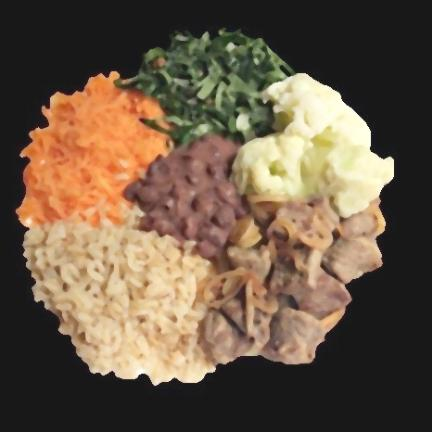beans: (123, 135, 246, 258)
carrot: (17, 73, 165, 227)
cauliflower: (231, 74, 392, 217)
meat: (203, 196, 383, 364)
rice: (23, 206, 213, 383)
salad: (116, 31, 293, 147)
